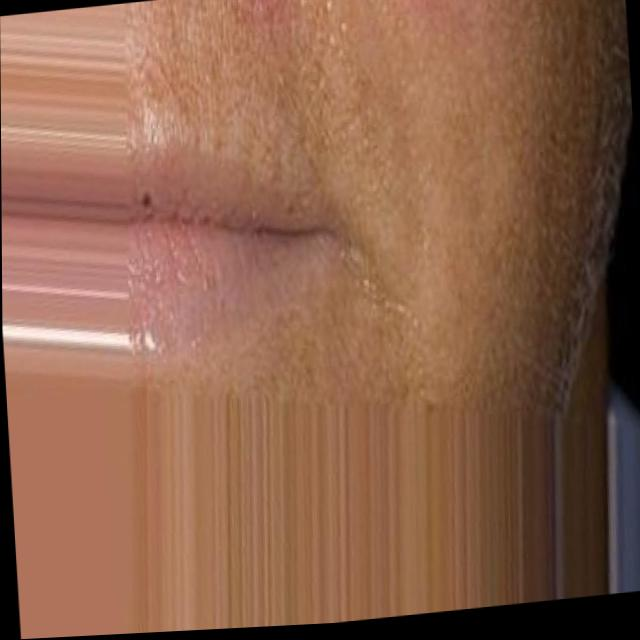Rosacea: (204, 0, 271, 30)
